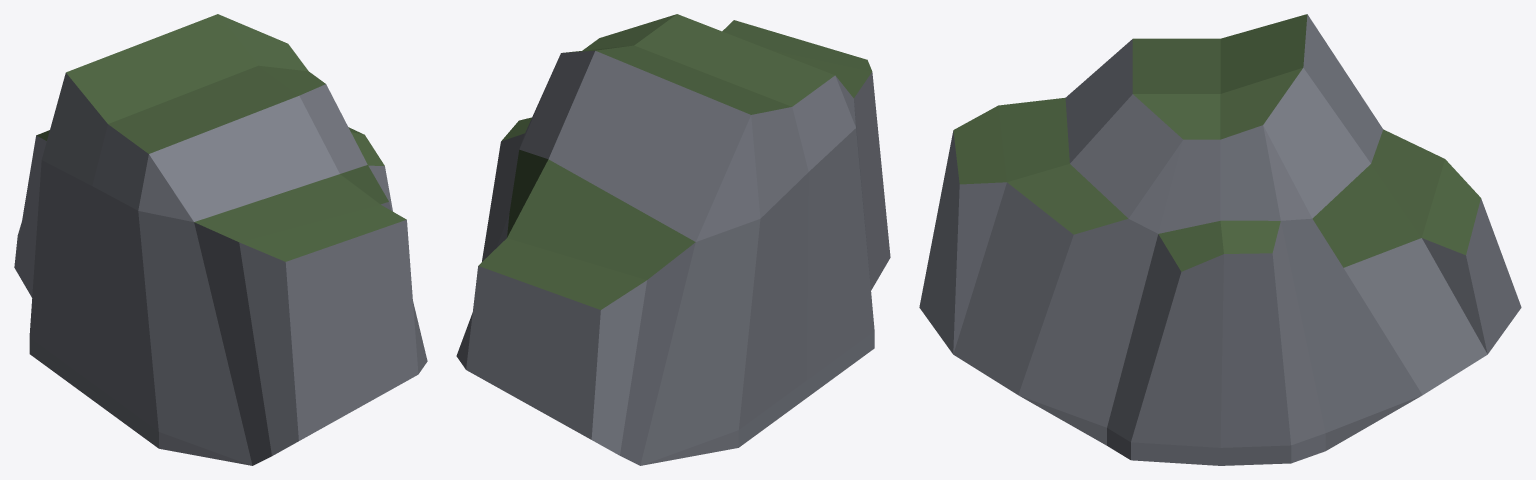
The model's file is Rock_Moss_4.gltf.
3 renders of one model, left to right at view 1: azimuth 30°, elevation 25°; view 2: azimuth 150°, elevation 25°; view 3: azimuth 270°, elevation 25°, orthographic. The views are drawn at different scales.
Visible parts, largest first — view 1: Rock_Moss_4; view 2: Rock_Moss_4; view 3: Rock_Moss_4.
Part boxes in pixels (left/top/right/bottom): Rock_Moss_4: left=14, top=14, right=427, bottom=465; Rock_Moss_4: left=456, top=14, right=890, bottom=465; Rock_Moss_4: left=919, top=14, right=1521, bottom=465.
Bounding box in the file's own units: 0.7436 × 0.7836 × 1.25.
